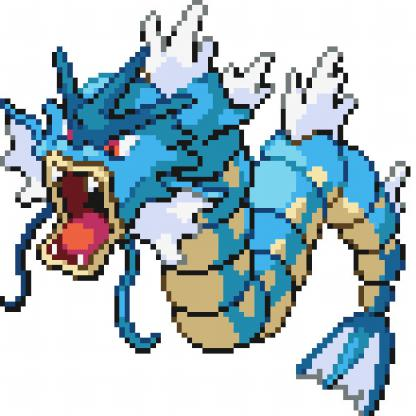Gyarados: (1, 4, 416, 416)
